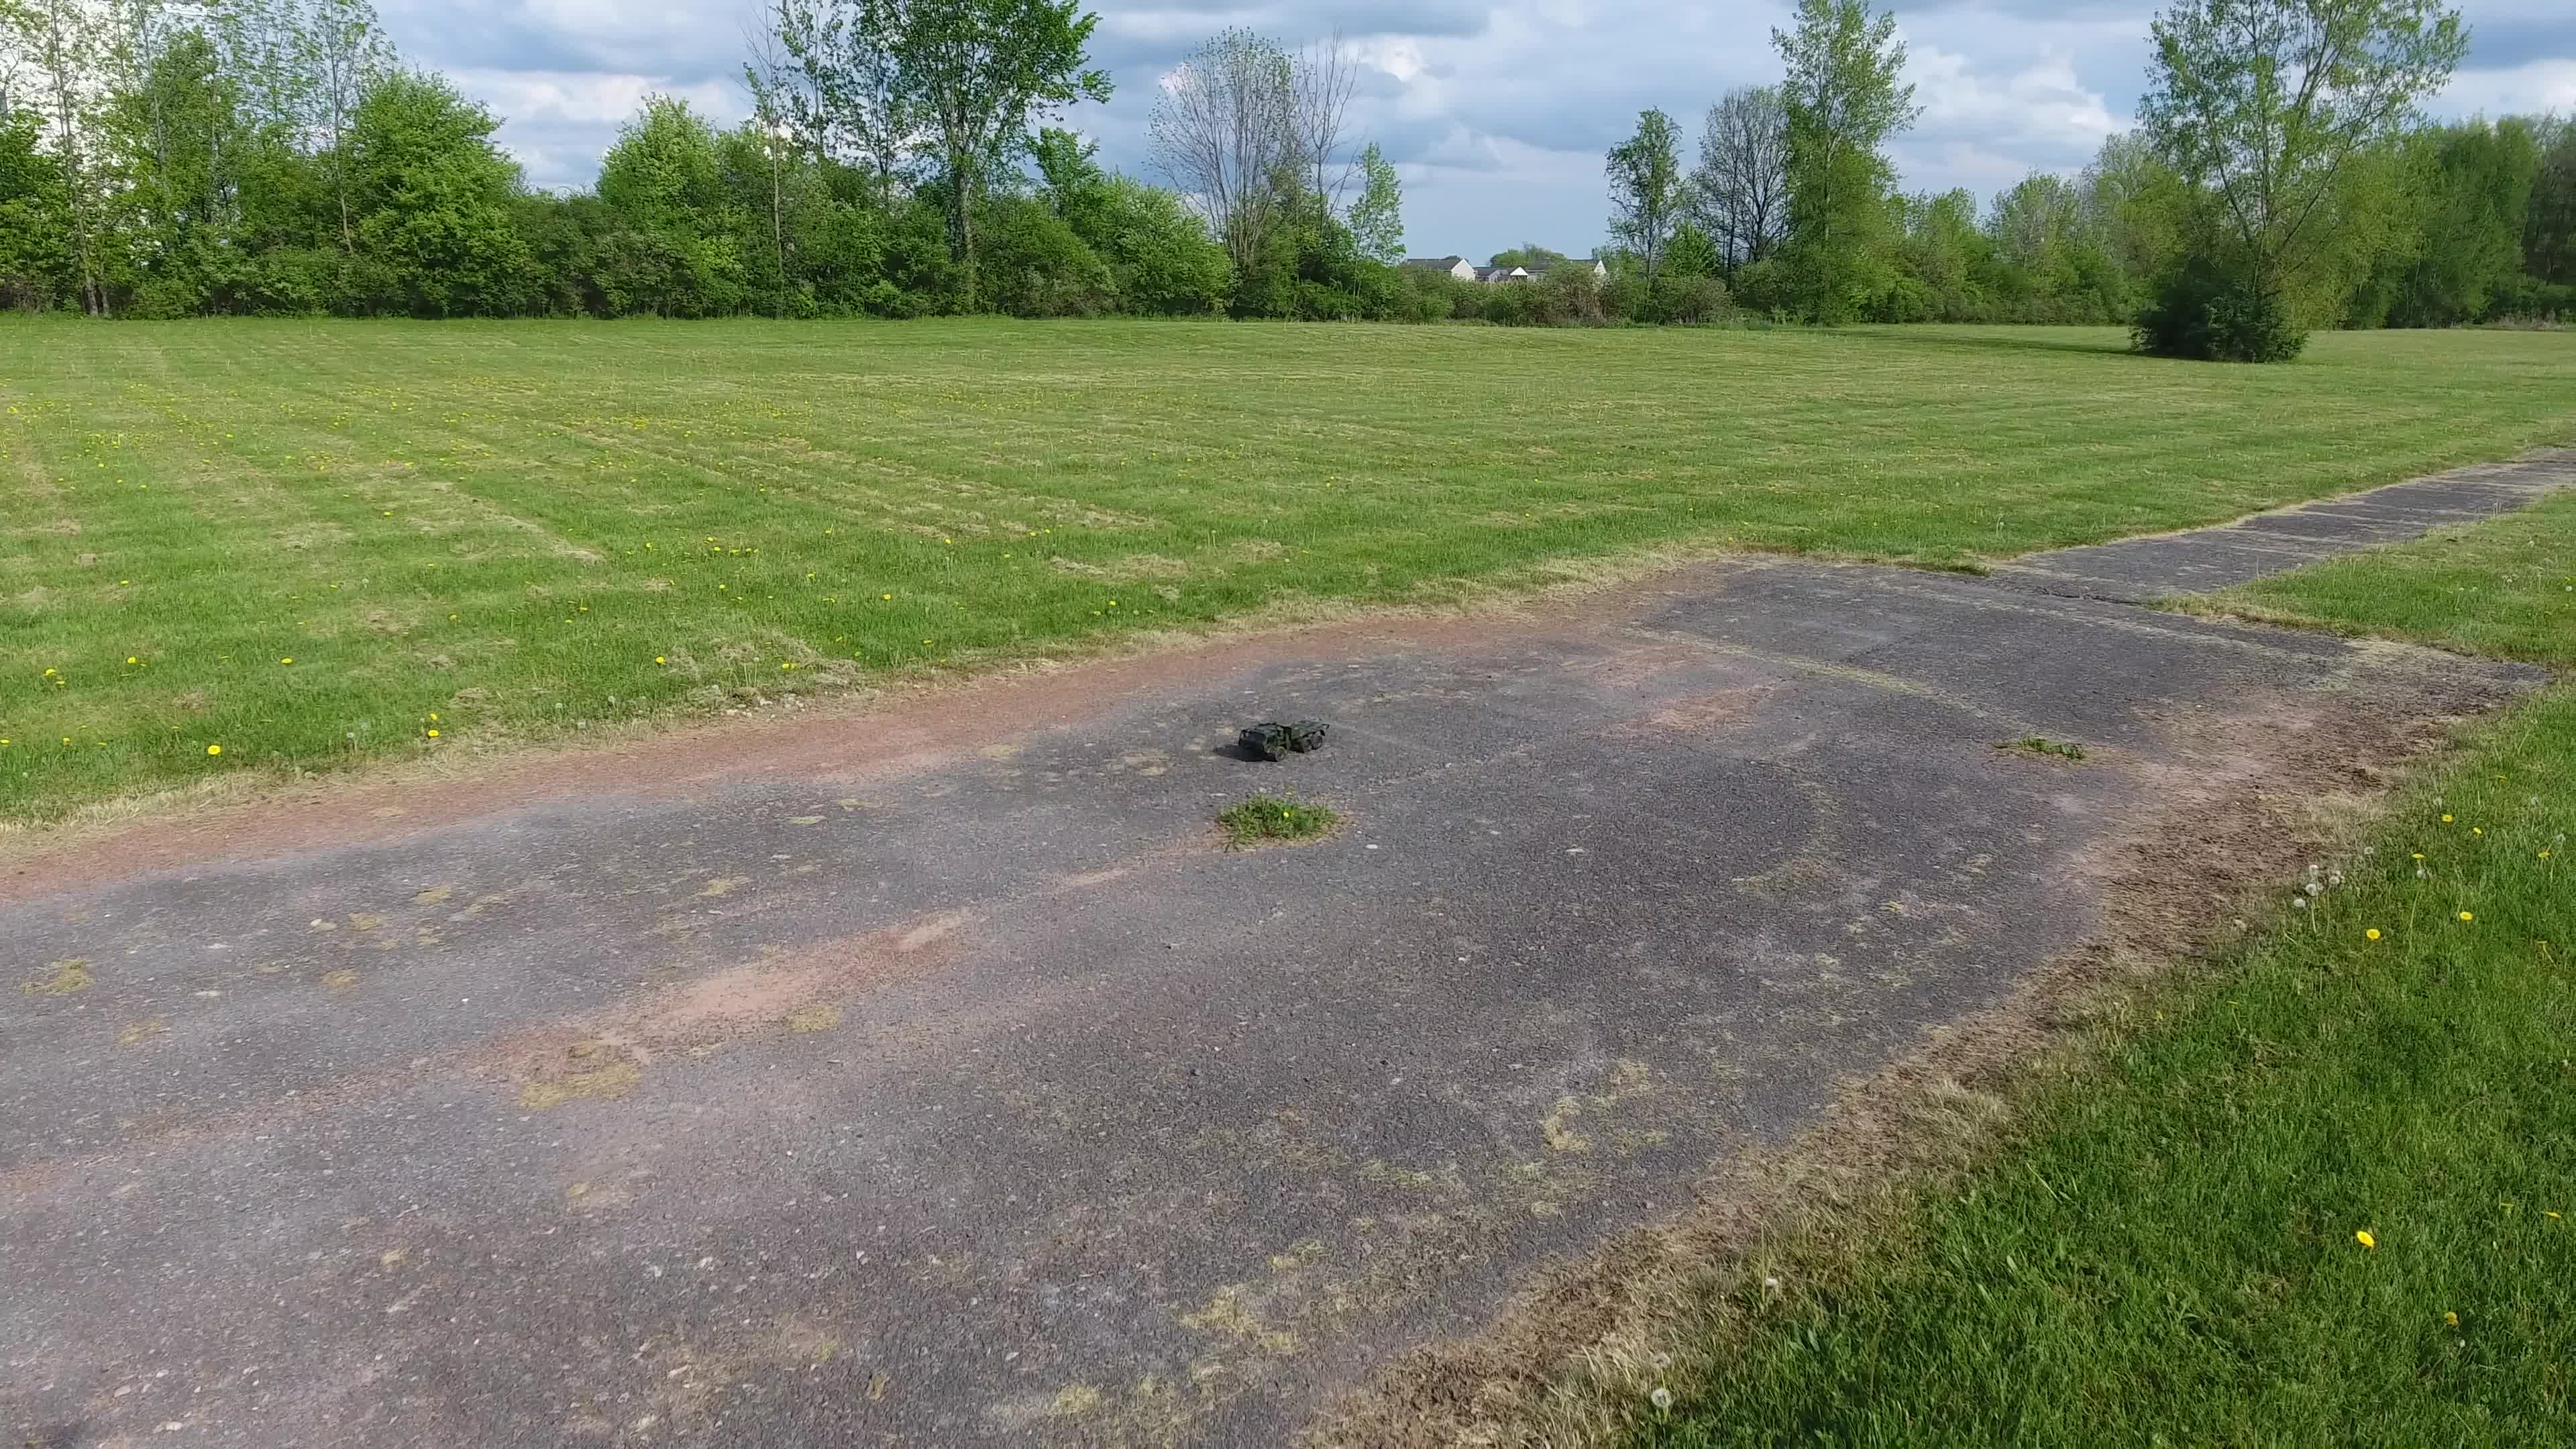transporter9_camo: (1237, 718, 1330, 764)
